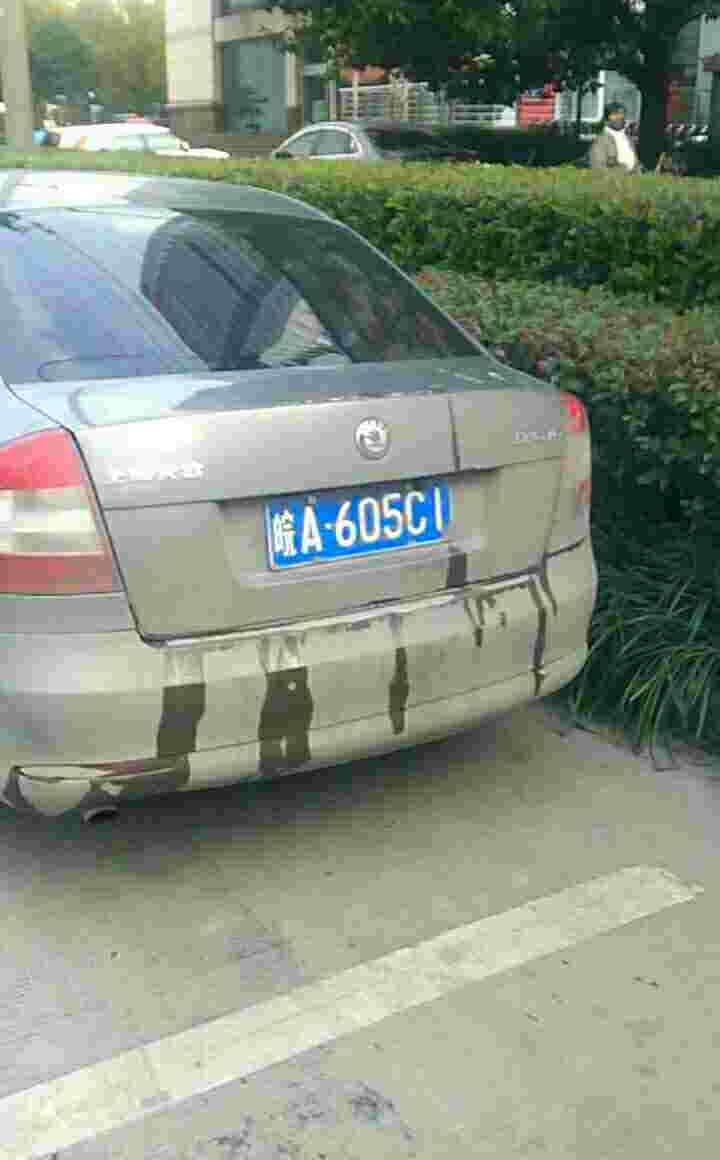license_plate: (266, 482, 453, 576)
